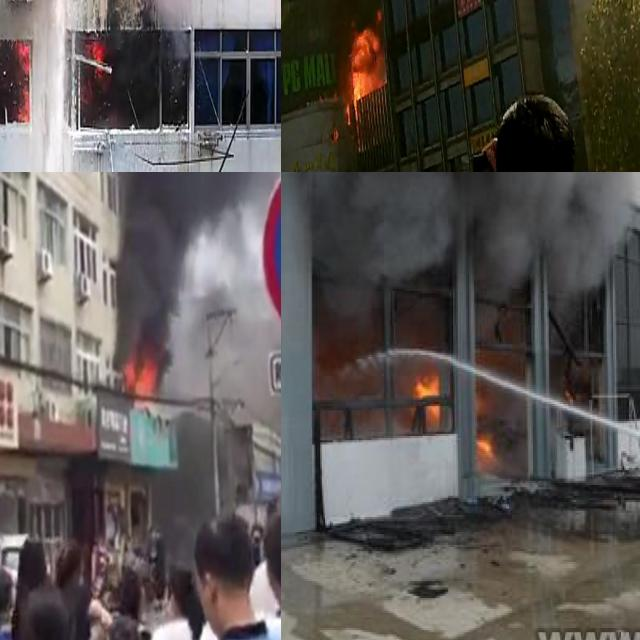fire: (345, 20, 385, 114), (121, 352, 161, 397), (411, 370, 442, 425), (474, 430, 493, 455), (86, 39, 106, 62)
smoke: (302, 172, 635, 278), (115, 172, 187, 347), (123, 172, 281, 216), (136, 0, 189, 21)
